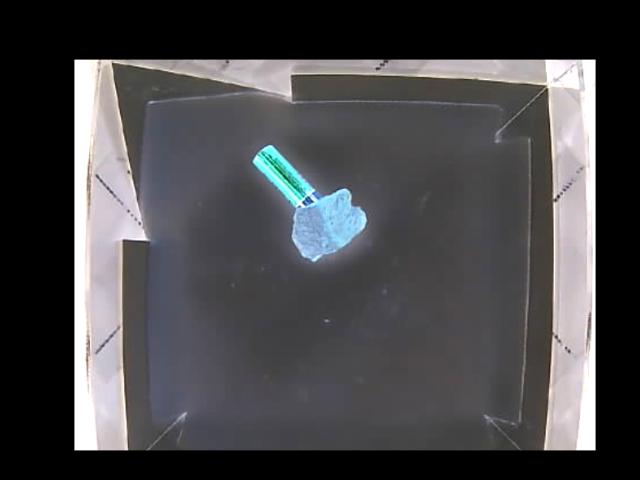Battery: (251, 145, 320, 207)
Brisk: (290, 188, 363, 259)
